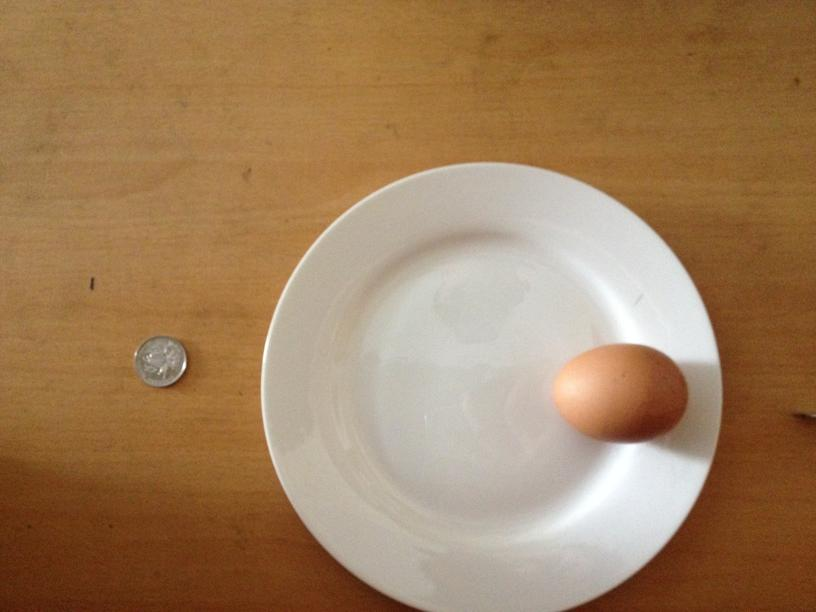coin: (130, 333, 187, 387)
egg: (555, 343, 687, 440)
